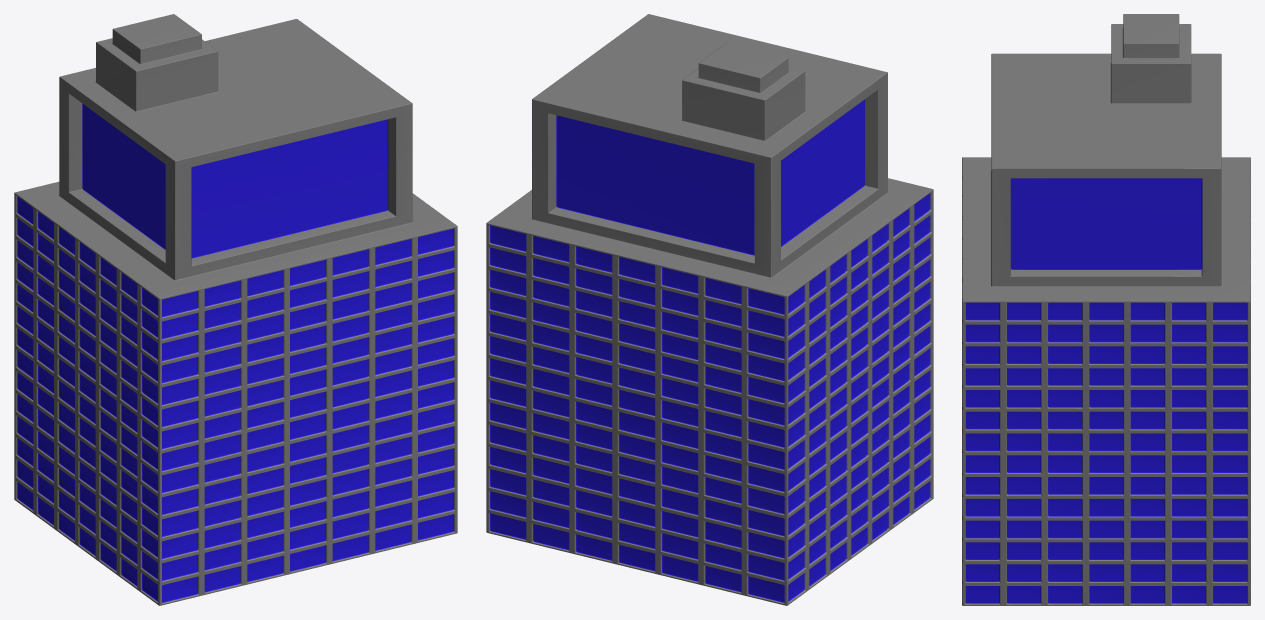
File: SM_Building01.fbx
3 views of the same model, side by side, from view 1: azimuth 30°, elevation 25°; view 2: azimuth 150°, elevation 25°; view 3: azimuth 270°, elevation 25° (orthographic).
Parts seen in each view (by area): view 1: SM_Building01; view 2: SM_Building01; view 3: SM_Building01.
Part boxes in pixels (x1,y1,x2,y2): SM_Building01: (14, 14, 457, 605); SM_Building01: (486, 14, 933, 605); SM_Building01: (962, 14, 1250, 605).
Size of the model in its own units: 1092 by 1685 by 922.
